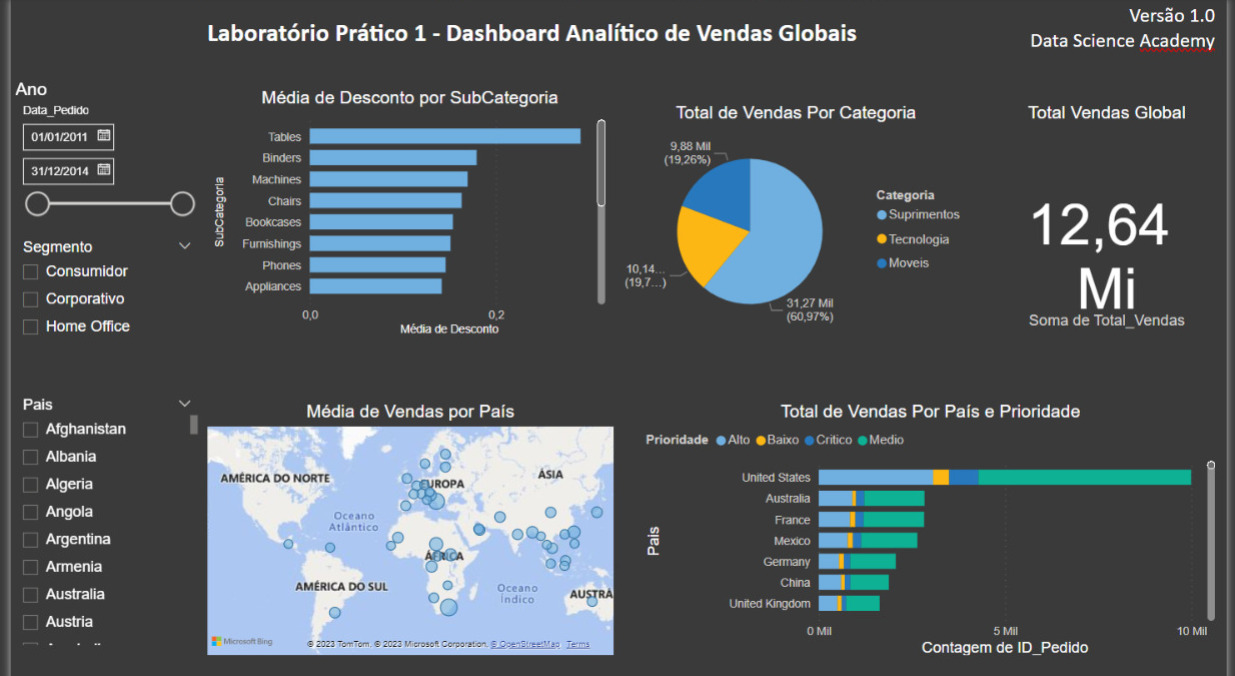

The page's visual inventory and layout, read from the dashboard file:
{"tool":"powerbi","page":{"name":"Lab1","canvas":[1280,720],"ordinal":0},"visuals":[{"type":"card","title":"Total Vendas Global","fields":{"Values":["Sum(dataset.Total_Vendas)"]},"box":[1028.6,110,251.8,303.3],"z":0},{"type":"pieChart","title":"Total de Vendas Por Categoria","fields":{"Category":["dataset.Categoria"],"Y":["CountNonNull(dataset.ID_Pedido)"]},"box":[640.2,110,373.3,250],"z":1},{"type":"barChart","title":"Total de Vendas Por País e Prioridade","fields":{"Category":["dataset.Pais"],"Y":["CountNonNull(dataset.ID_Pedido)"],"Series":["dataset.Prioridade"]},"box":[664.1,423.8,609.2,272.2],"z":2},{"type":"clusteredBarChart","fields":{"Category":["dataset.SubCategoria"],"Y":["Avg(dataset.Desconto)"]},"box":[210.1,94,421.2,266],"z":3},{"type":"map","title":"Média de Vendas por País","fields":{"Category":["dataset.Pais"],"Size":["Avg(dataset.Total_Vendas)"]},"box":[202.2,423.8,438,272.2],"z":4},{"type":"slicer","fields":{"Values":["dataset.Pais"]},"box":[0,413.2,202.2,272.2],"z":5},{"type":"slicer","fields":{"Values":["dataset.Segmento"]},"box":[0,247.4,202.2,165.8],"z":6},{"type":"slicer","title":"Ano","fields":{"Values":["dataset.Data_Pedido"]},"box":[0,85.1,202.2,162.3],"z":7},{"type":"textbox","box":[202.2,0,696.9,74.5],"z":8},{"type":"textbox","box":[933.7,0,339.6,74.5],"z":9}]}

Visuals, with their boxes in screenshot pixels (x1, y1, x2, y2), scaled from the page's 1280x720 canvas onto the 1235x676 screenshot:
"Total Vendas Global" card: left=992, top=103, right=1234, bottom=388
"Total de Vendas Por Categoria" pieChart: left=618, top=103, right=978, bottom=338
"Total de Vendas Por País e Prioridade" barChart: left=641, top=398, right=1229, bottom=653
clusteredBarChart - dataset.SubCategoria x Avg(dataset.Desconto): left=203, top=88, right=609, bottom=338
"Média de Vendas por País" map: left=195, top=398, right=618, bottom=653
slicer - dataset.Pais: left=0, top=388, right=195, bottom=644
slicer - dataset.Segmento: left=0, top=232, right=195, bottom=388
"Ano" slicer: left=0, top=80, right=195, bottom=232
textbox: left=195, top=0, right=867, bottom=70
textbox: left=901, top=0, right=1229, bottom=70
